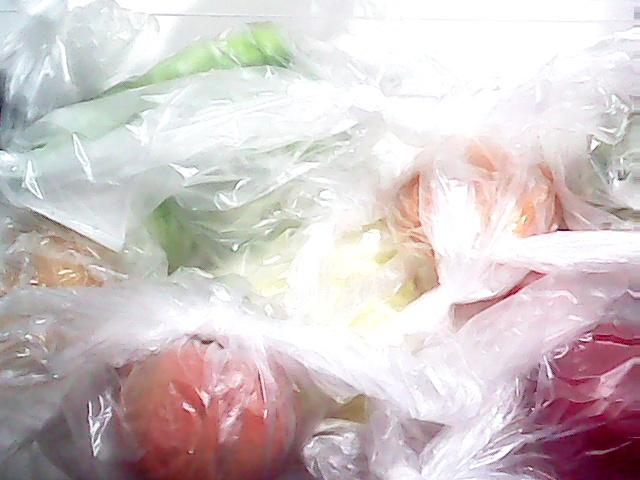apple: (484, 302, 640, 480)
cabbage: (531, 55, 640, 232), (144, 168, 228, 280)
lemon: (380, 125, 580, 308)
napa cabbage: (129, 174, 479, 354)
peach: (109, 324, 314, 480)
pepper: (20, 15, 292, 158)
potato: (1, 206, 115, 388)
